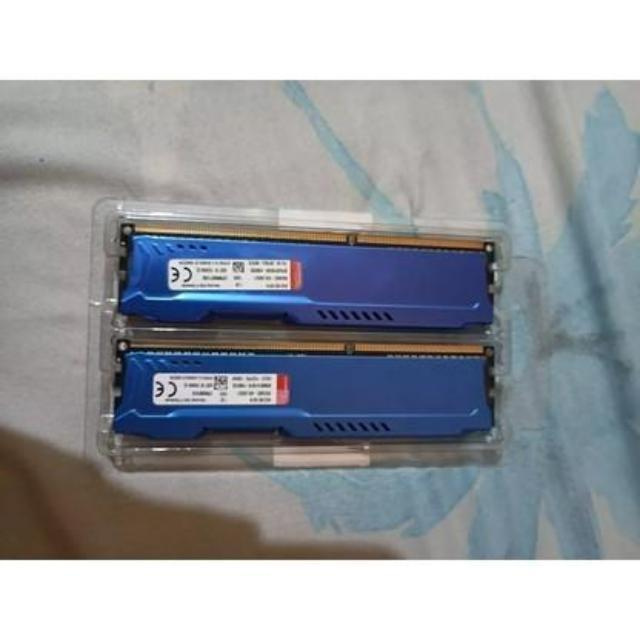RAM: (114, 214, 508, 336), (114, 332, 500, 438)
